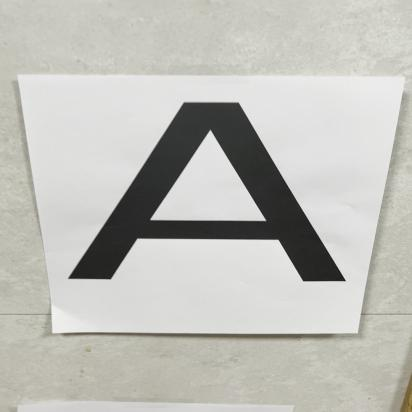seat: (50, 100, 354, 308)
